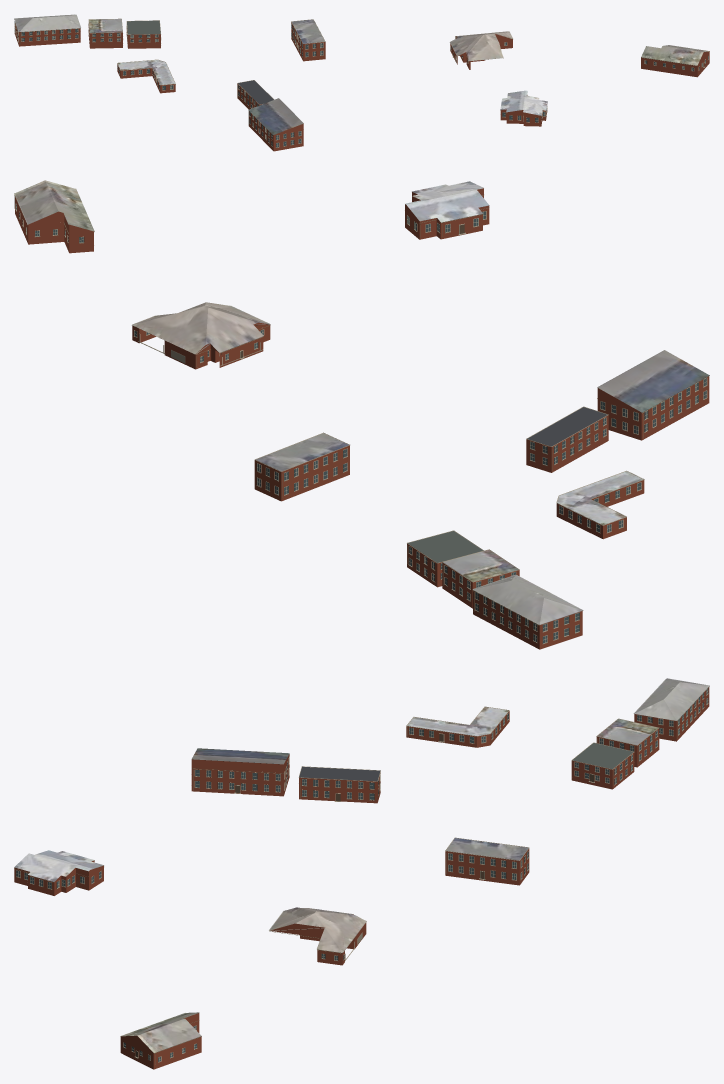
3 renders of one model, top to bottom at view 1: azimuth 30°, elevation 25°; view 2: azimuth 150°, elevation 25°; view 3: azimuth 270°, elevation 25°, orthographic. The views are drawn at different scales.
Visible parts, largest first — view 1: -3_2_598392601_0, -3_2_598392604_3; view 2: -3_2_598392601_0, -3_2_598392604_3; view 3: -3_2_598392601_0, -3_2_598392604_3.
Part boxes in pixels (bbox=[...]): -3_2_598392601_0: bbox=[14, 14, 709, 151]; -3_2_598392604_3: bbox=[127, 20, 273, 104]; -3_2_598392601_0: bbox=[14, 180, 709, 649]; -3_2_598392604_3: bbox=[408, 407, 607, 562]; -3_2_598392601_0: bbox=[14, 678, 709, 1069]; -3_2_598392604_3: bbox=[299, 743, 633, 781].
Size of the model in its own units: 286 by 21.96 by 236.
11 materials, 1 textured.
